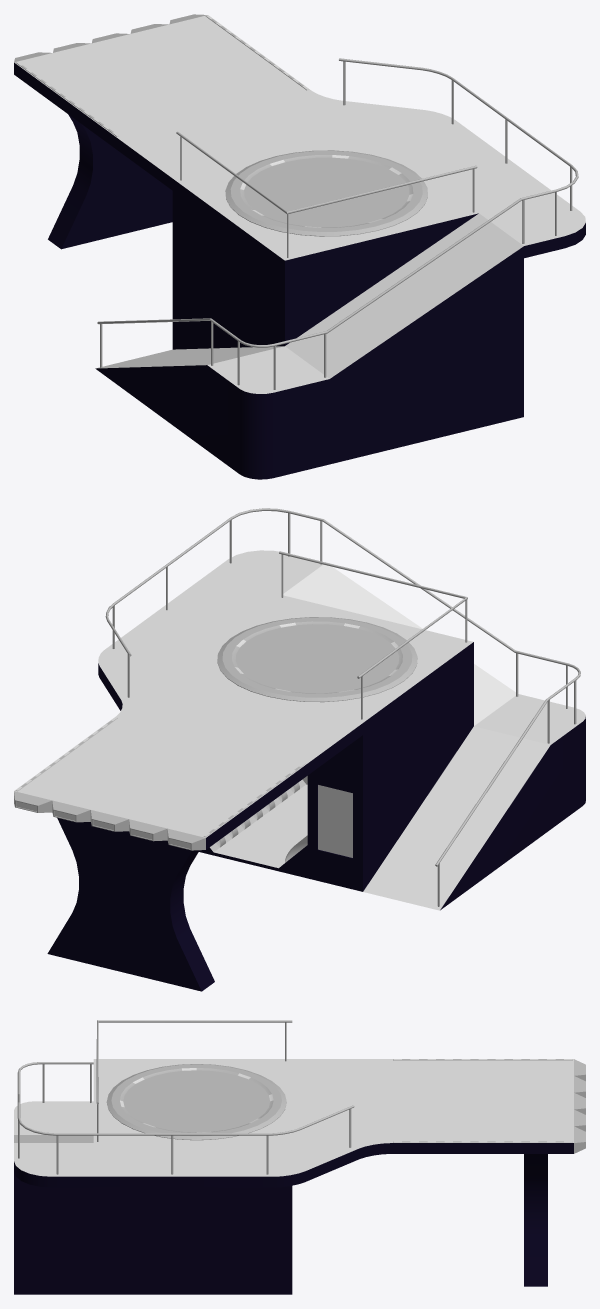
The model's file is BASE_TP-LANDING.glb.
3 views of the same model, one above another, from view 1: azimuth 30°, elevation 25°; view 2: azimuth 150°, elevation 25°; view 3: azimuth 270°, elevation 25° (orthographic). The views are drawn at different scales.
Visible parts, largest first — view 1: TP_LANDING; view 2: TP_LANDING; view 3: TP_LANDING.
Part boxes in pixels (bbox=[...]): TP_LANDING: bbox=[14, 14, 585, 479]; TP_LANDING: bbox=[14, 508, 585, 991]; TP_LANDING: bbox=[14, 1020, 585, 1294].
Size of the model in its own units: 9 by 5.33 by 14.38.
